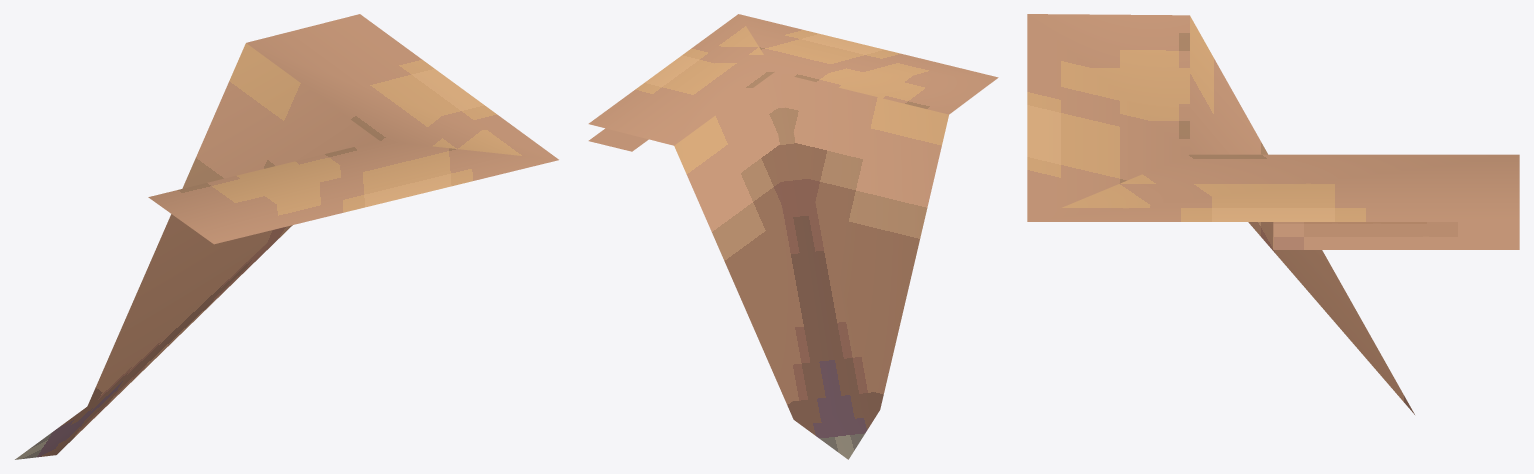
The picture shows the model from 3 angles, left to right: view 1: azimuth 30°, elevation 25°; view 2: azimuth 150°, elevation 25°; view 3: azimuth 270°, elevation 25°; orthographic projection. The views are drawn at different scales.
Size of the model in its own units: 1 by 1 by 1.
Materials: 2 (2 with a texture image).
